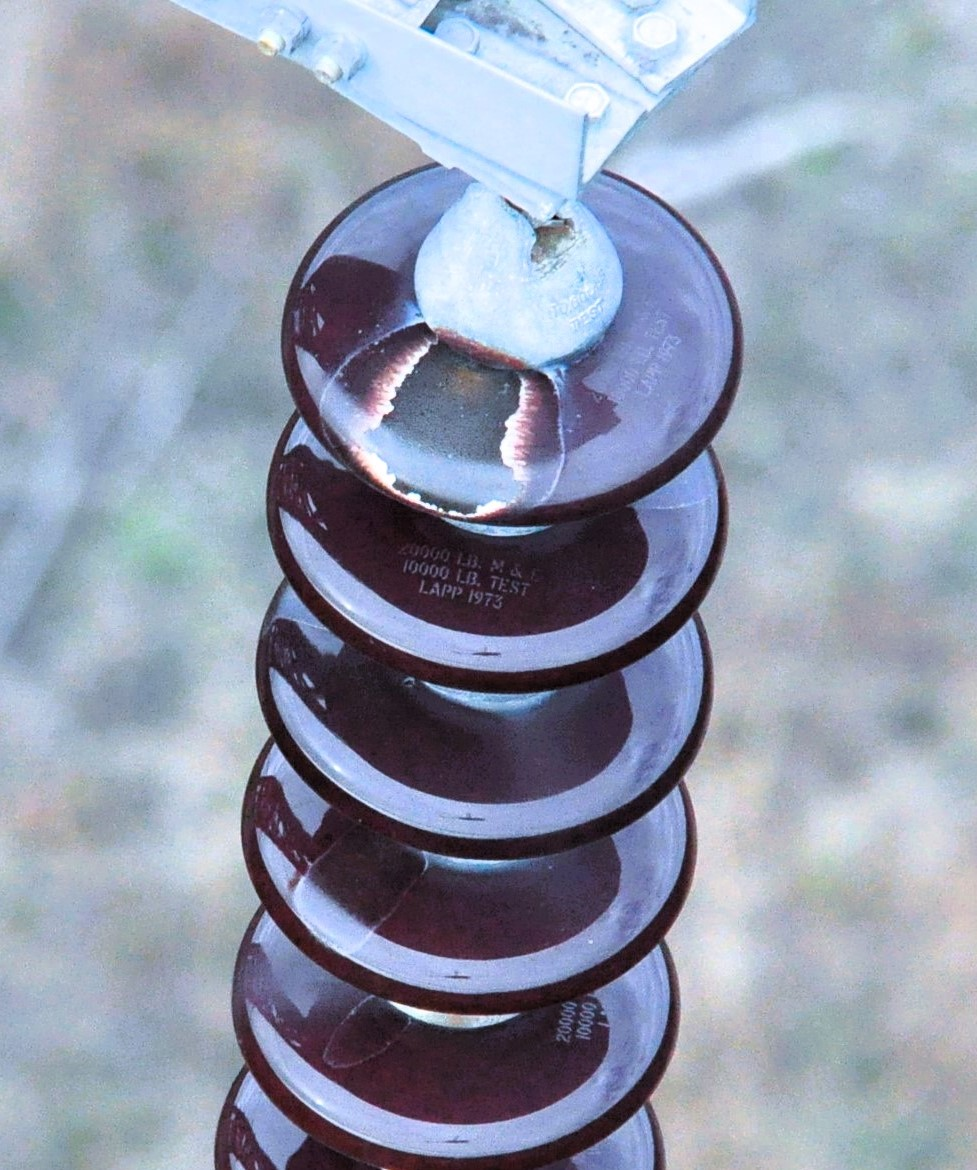Insulator flashover: (266, 150, 750, 539)
